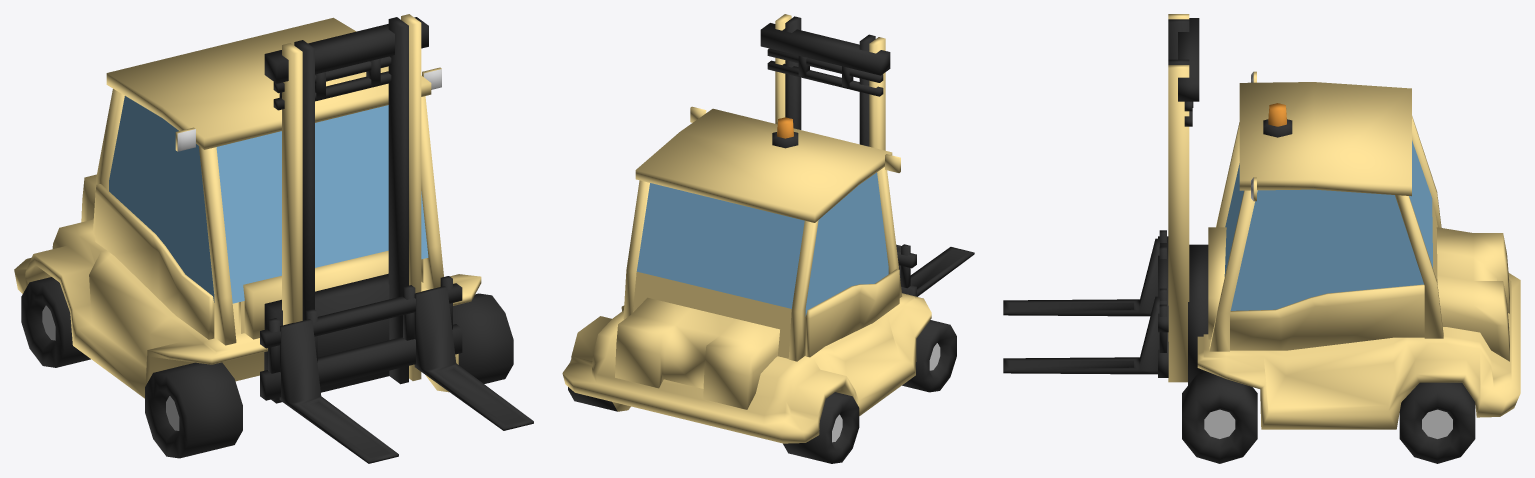
The model's file is погрузчик лоу поли ВЕРСИЯ 3.fbx.
3 renders of one model, left to right at view 1: azimuth 30°, elevation 25°; view 2: azimuth 150°, elevation 25°; view 3: azimuth 270°, elevation 25°, orthographic. The views are drawn at different scales.
Visible parts, largest first — view 1: Cube, Cube.004, Cube.008, Cube.002, Cube.016, Cube.014, Cube.009, Cube.010, Cube.012; view 2: Cube, Cube.004, Cube.008, Cube.010, Cube.014, Cube.002, Cube.016, Cube.001; view 3: Cube, Cube.004, Cube.002, Cube.016, Cube.009, Cube.008, Cube.001, Cube.013, Cube.007.
Boxes of the visible parts, x1,y1,x2,y2 form: Cube: [14, 17, 481, 398]; Cube.004: [109, 96, 428, 303]; Cube.008: [264, 17, 428, 403]; Cube.002: [260, 276, 533, 463]; Cube.016: [282, 14, 421, 380]; Cube.014: [145, 362, 242, 458]; Cube.009: [425, 293, 513, 392]; Cube.010: [21, 277, 90, 367]; Cube.012: [177, 69, 441, 151]; Cube: [562, 106, 931, 443]; Cube.004: [636, 172, 888, 316]; Cube.008: [760, 16, 890, 146]; Cube.010: [783, 392, 859, 463]; Cube.014: [902, 320, 956, 392]; Cube.002: [896, 244, 974, 296]; Cube.016: [775, 14, 885, 150]; Cube.001: [568, 360, 630, 411]; Cube: [1197, 71, 1520, 429]; Cube.004: [1224, 140, 1432, 310]; Cube.002: [1003, 230, 1168, 377]; Cube.016: [1168, 14, 1189, 382]; Cube.009: [1182, 372, 1257, 463]; Cube.008: [1168, 18, 1208, 385]; Cube.001: [1399, 382, 1475, 463]; Cube.013: [1204, 409, 1235, 438]; Cube.007: [1422, 409, 1452, 438].
Bounding box in the file's own units: 298 × 350 × 465.
